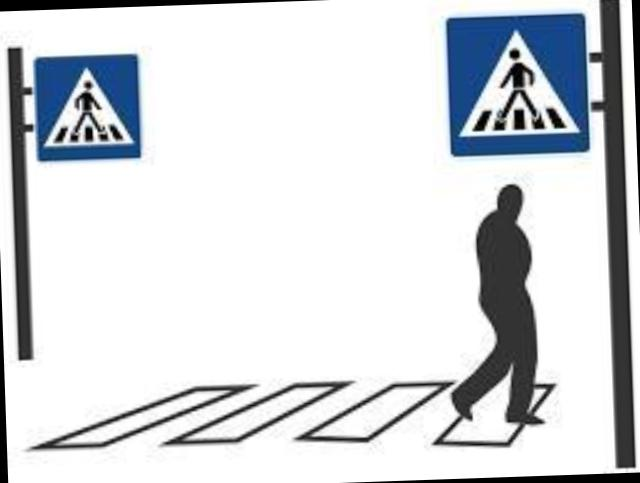crosswalk-sign: (445, 12, 591, 158), (32, 52, 142, 162)
